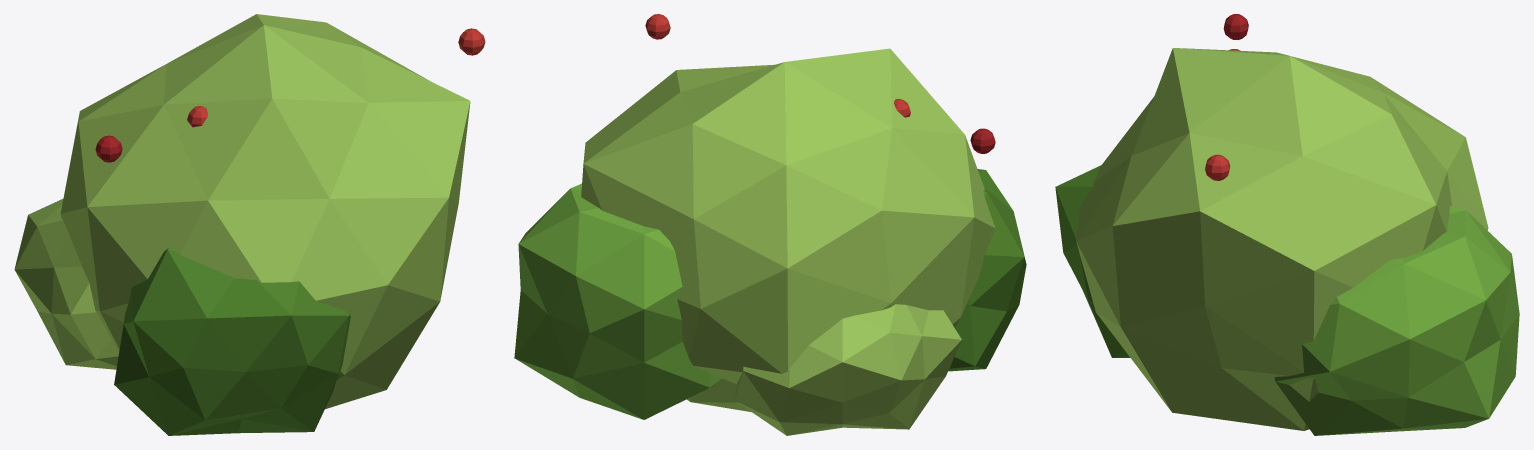
Rendered from baies.glb.
3 renders of one model, left to right at view 1: azimuth 30°, elevation 25°; view 2: azimuth 150°, elevation 25°; view 3: azimuth 270°, elevation 25°, orthographic. The views are drawn at different scales.
Size of the model in its own units: 1.13 by 1 by 1.15.
